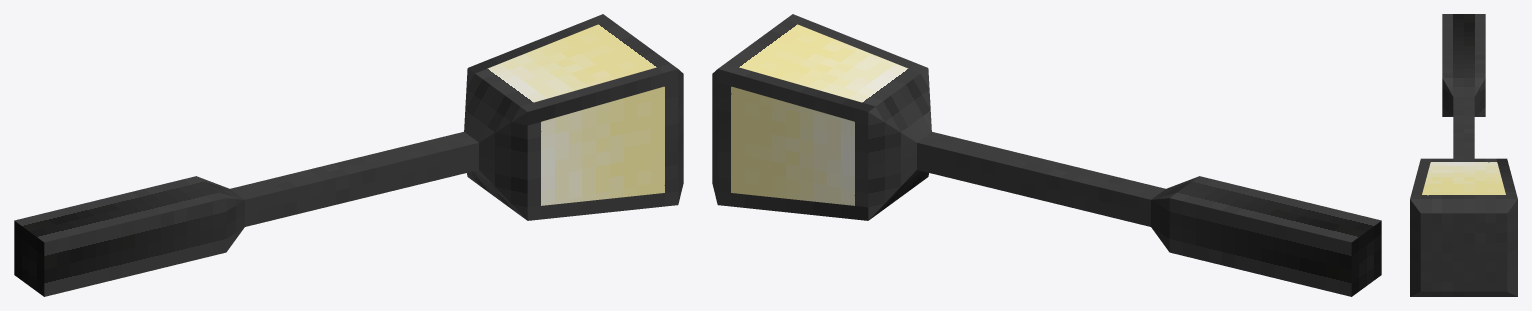
Rendered from StreetLight.obj.
3 renders of one model, left to right at view 1: azimuth 30°, elevation 25°; view 2: azimuth 150°, elevation 25°; view 3: azimuth 270°, elevation 25°, orthographic. The views are drawn at different scales.
Parts seen in each view (by area): view 1: socket; view 2: socket; view 3: socket.
Boxes of the visible parts, x1,y1,x2,y2 form: socket: (14,14,683,296); socket: (712,14,1381,296); socket: (1410,14,1517,296).
Bounding box in the file's own units: 3 × 0.625 × 0.625.
Materials: 1 (1 with a texture image).
